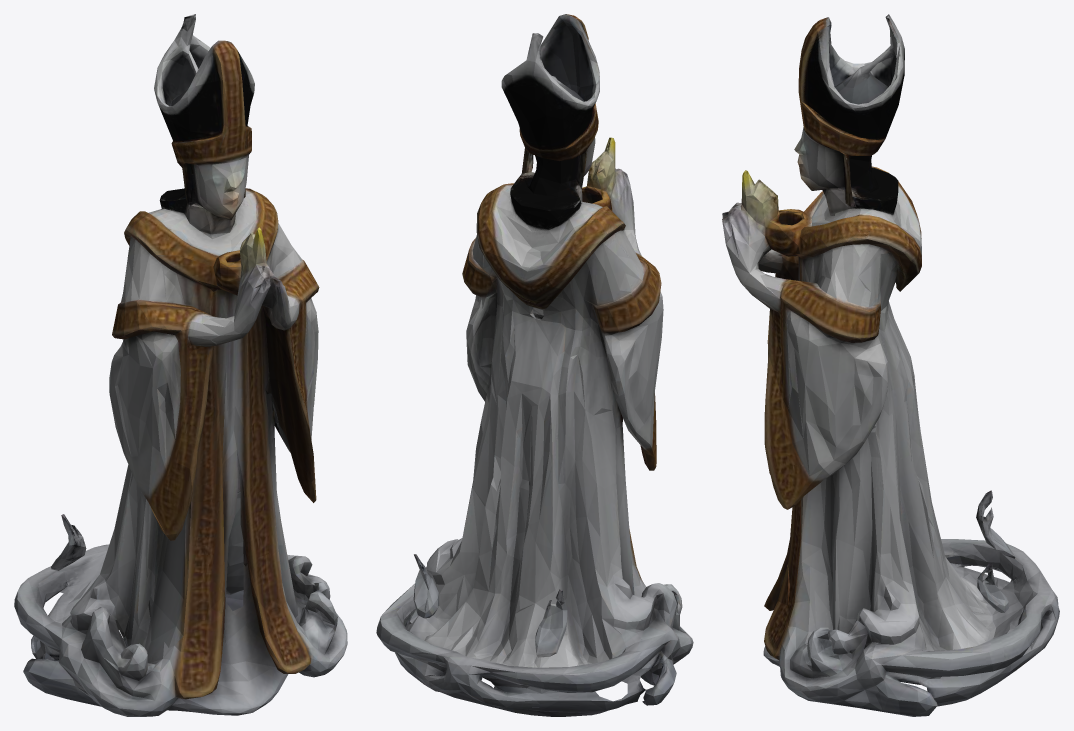
File: spiritPriest.glb
The picture shows the model from 3 angles, left to right: view 1: azimuth 30°, elevation 25°; view 2: azimuth 150°, elevation 25°; view 3: azimuth 270°, elevation 25°; orthographic projection. The views are drawn at different scales.
Visible parts, largest first — view 1: world; view 2: world; view 3: world.
Part boxes in pixels (x1,y1,x2,y2): world: [14, 14, 347, 716]; world: [376, 14, 693, 716]; world: [722, 14, 1059, 716].
Size of the model in its own units: 0.4713 by 0.9992 by 0.4767.
Materials: 1 (1 with a texture image).
